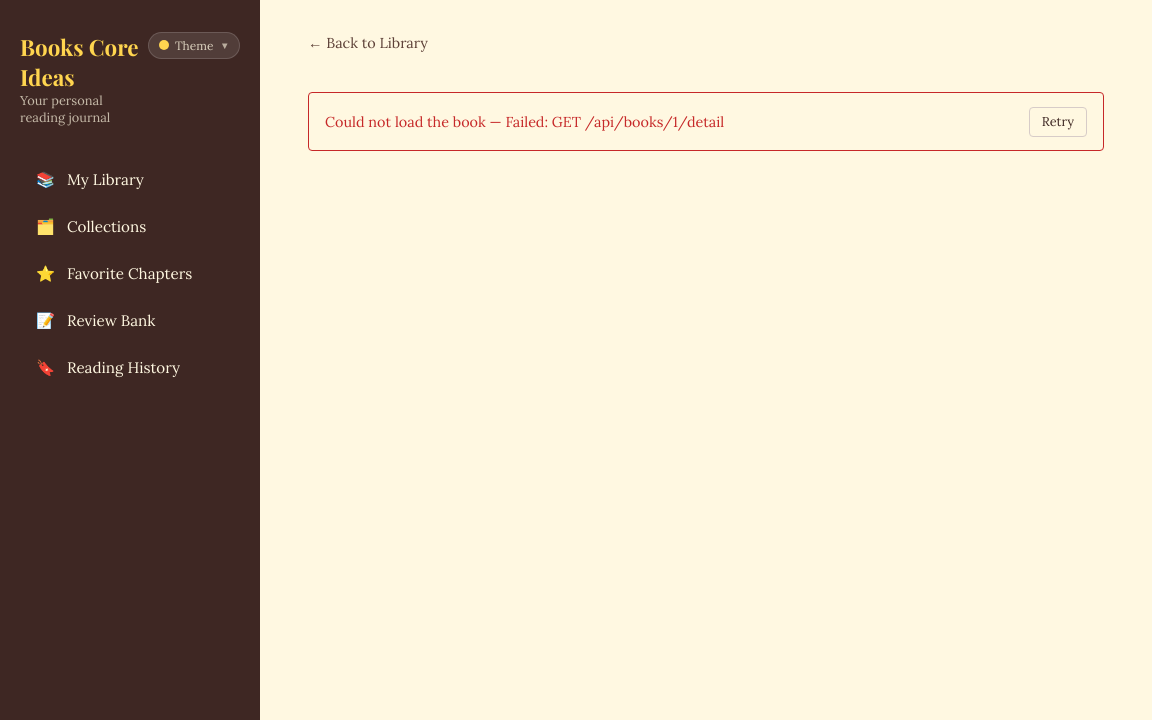
it: not found › tells a failed load apart from a missing book, and retries it
The image size is (1152, 720).
Expected: the message shows "Could not load the book — Failed: GET /api/books/1/detail", [308, 92, 1104, 151]
Click the button "Retry" at (1058, 122), box [1029, 107, 1087, 137]
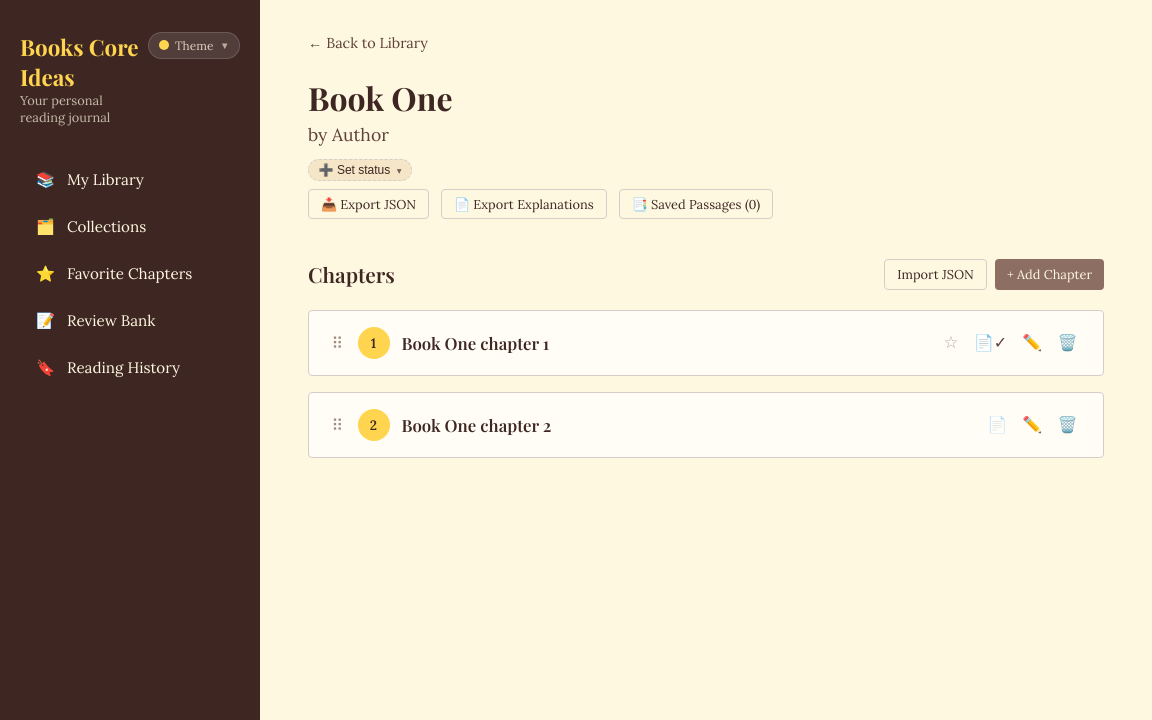
Expected: the heading "Book One" is shown, [308, 76, 452, 119]
